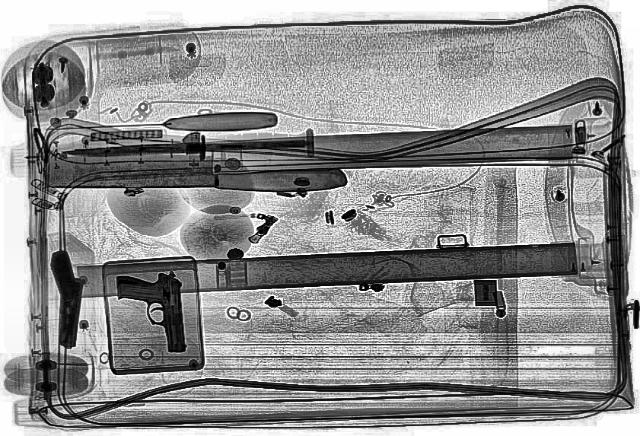Gun: (116, 268, 188, 354), (48, 248, 88, 348)
Knife: (41, 147, 346, 195), (44, 109, 278, 136), (60, 136, 304, 158)
